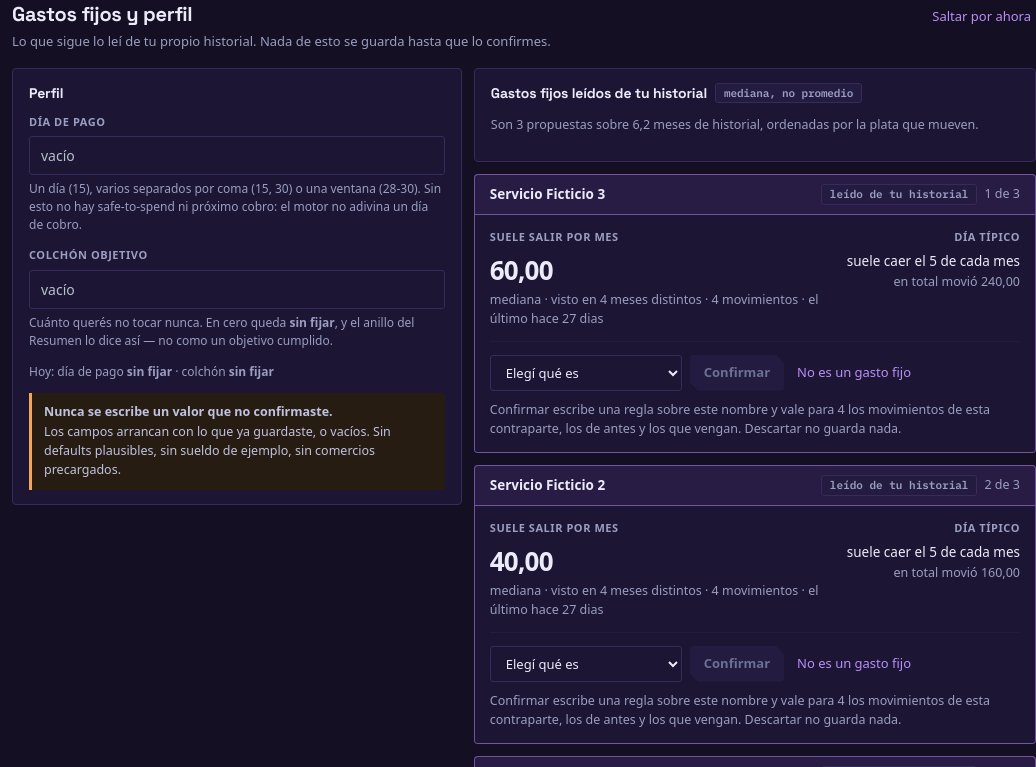
los dos campos del perfil (criterio 6) › no tira en silencio un colchón que no se entiende, y no navega
The image size is (1036, 767).
In the field with test id "campo-colchon": coordinates (237, 289) [29,270,445,308], type "no me acuerdo"
(page scrolled)
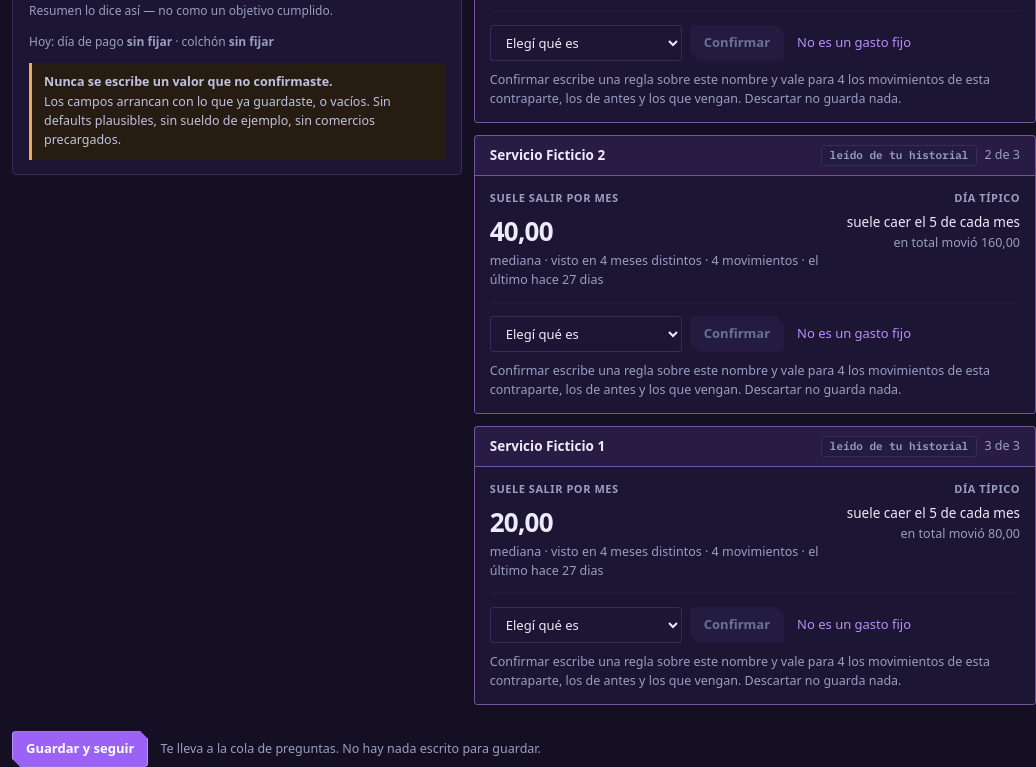
Click the button with test id "alta-guardar-y-seguir": coordinates (80, 749) [12,731,148,766]
(page scrolled)
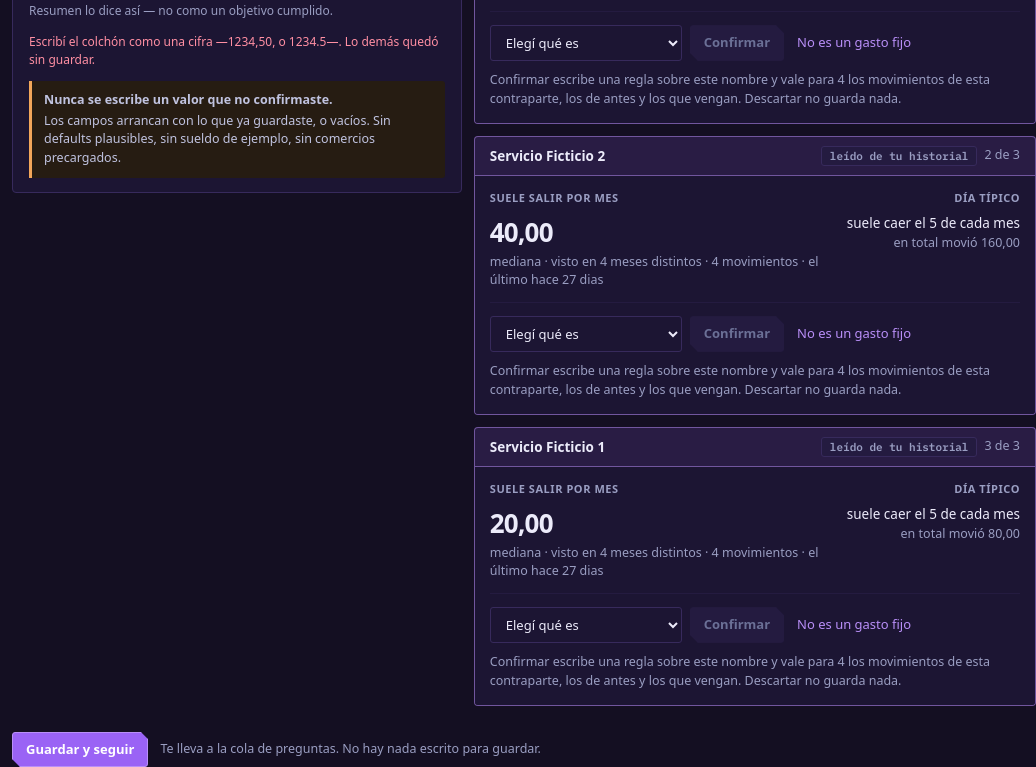
Expected: the text with test id "alta-error-perfil" shows "colchón", [29,33,439,68]
